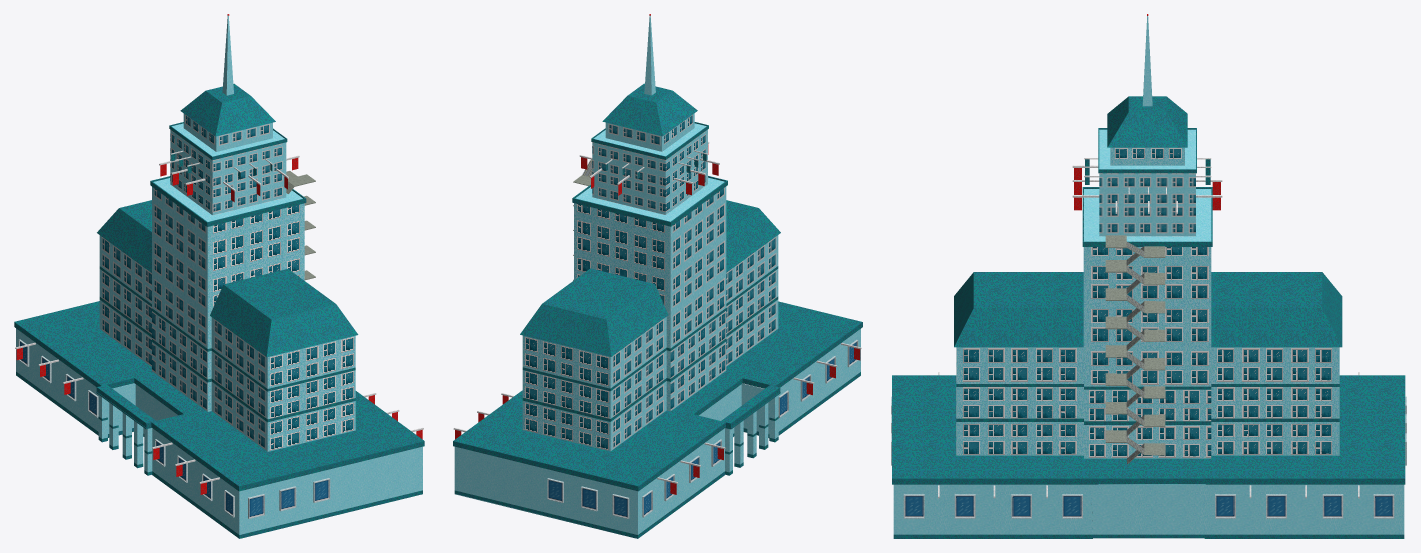
File: BGN_BCW TOWER.fbx
3 views of the same model, side by side, from view 1: azimuth 30°, elevation 25°; view 2: azimuth 150°, elevation 25°; view 3: azimuth 270°, elevation 25° (orthographic). The views are drawn at different scales.
Visible parts, largest first — view 1: BGN_BCW_TOWER; view 2: BGN_BCW_TOWER; view 3: BGN_BCW_TOWER.
Part boxes in pixels (<box>): BGN_BCW_TOWER: <box>14,14,424,538</box>; BGN_BCW_TOWER: <box>453,14,862,538</box>; BGN_BCW_TOWER: <box>891,14,1406,538</box>.
Size of the model in its own units: 3632 by 6522 by 6349.
